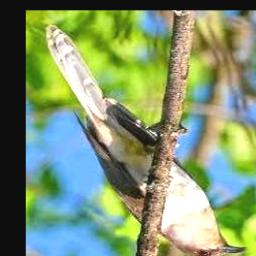Cuckoo: (45, 25, 244, 256)
